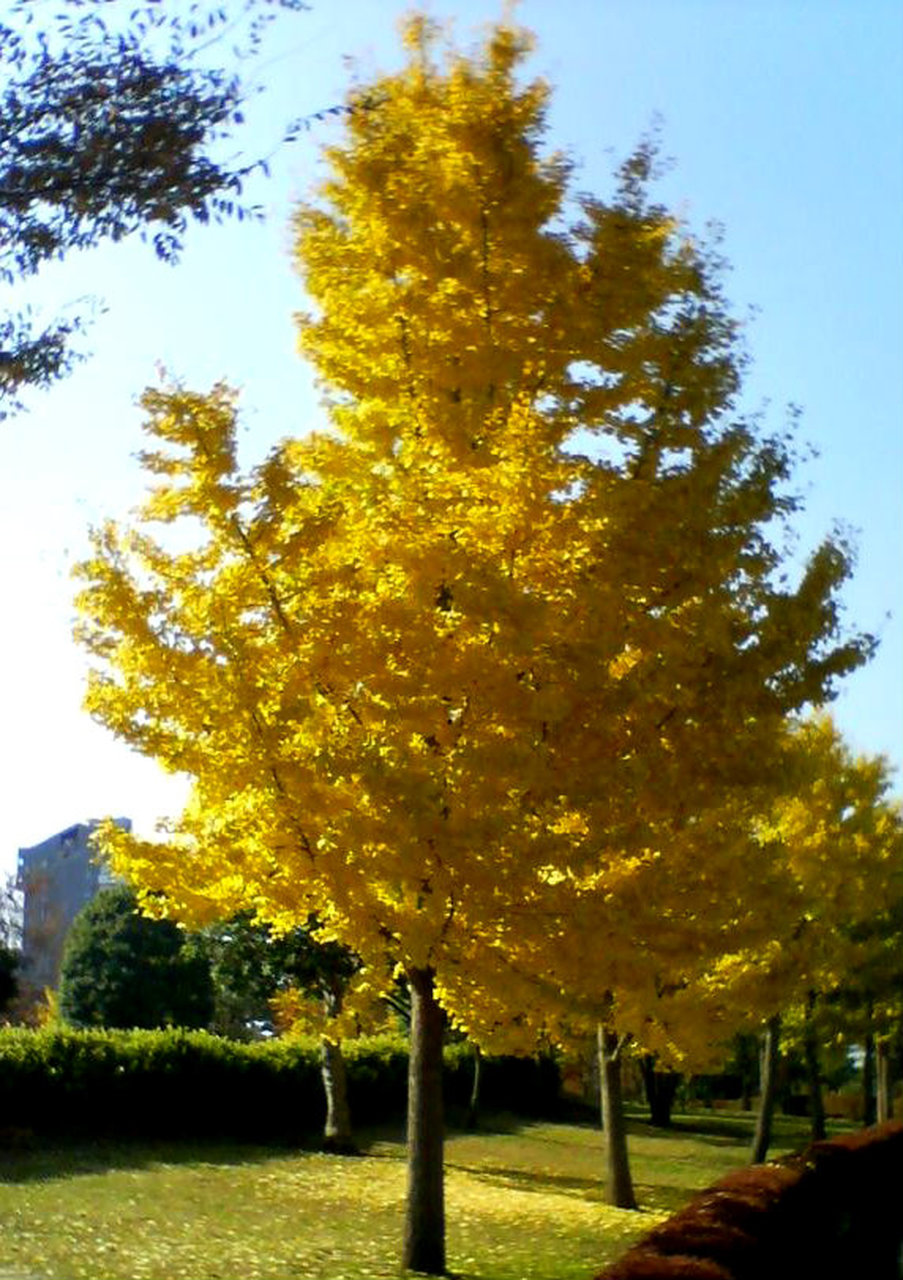tree: (59, 1, 903, 1277)
